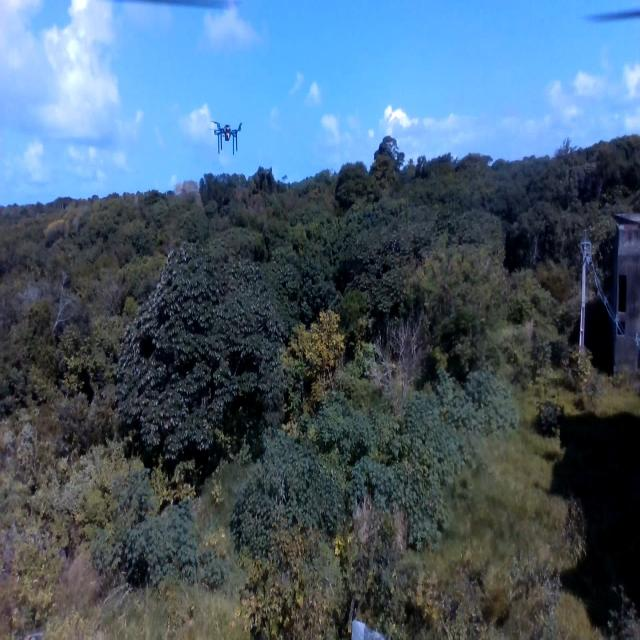-uav-: (209, 105, 244, 172)
